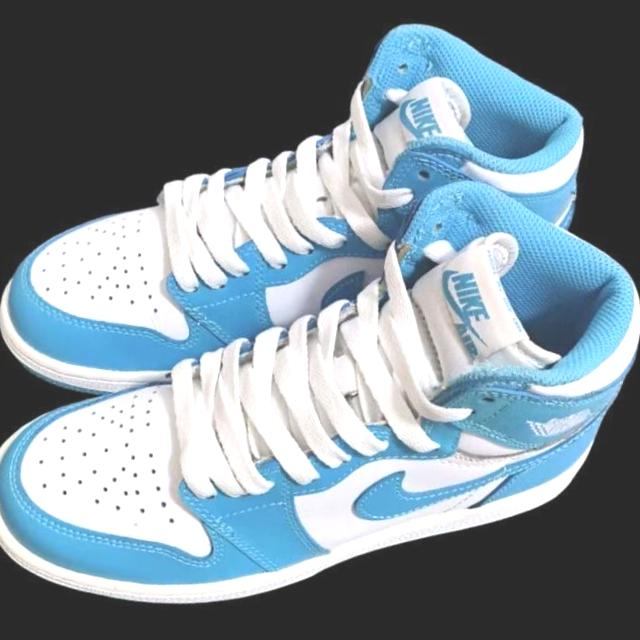nike_original_jordan: (0, 113, 640, 640), (0, 0, 603, 466)
